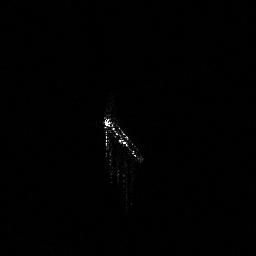ship: (99, 106, 147, 171)
